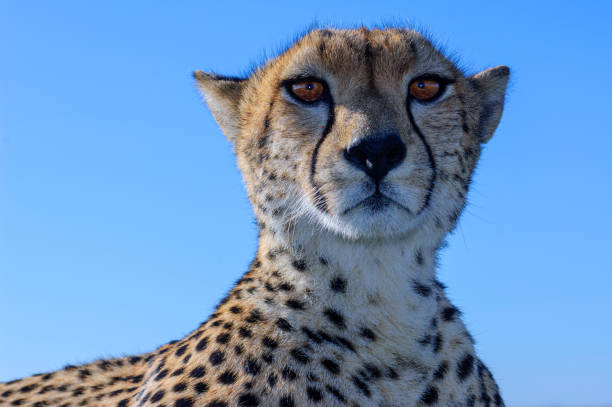cheetah: (155, 8, 528, 318)
